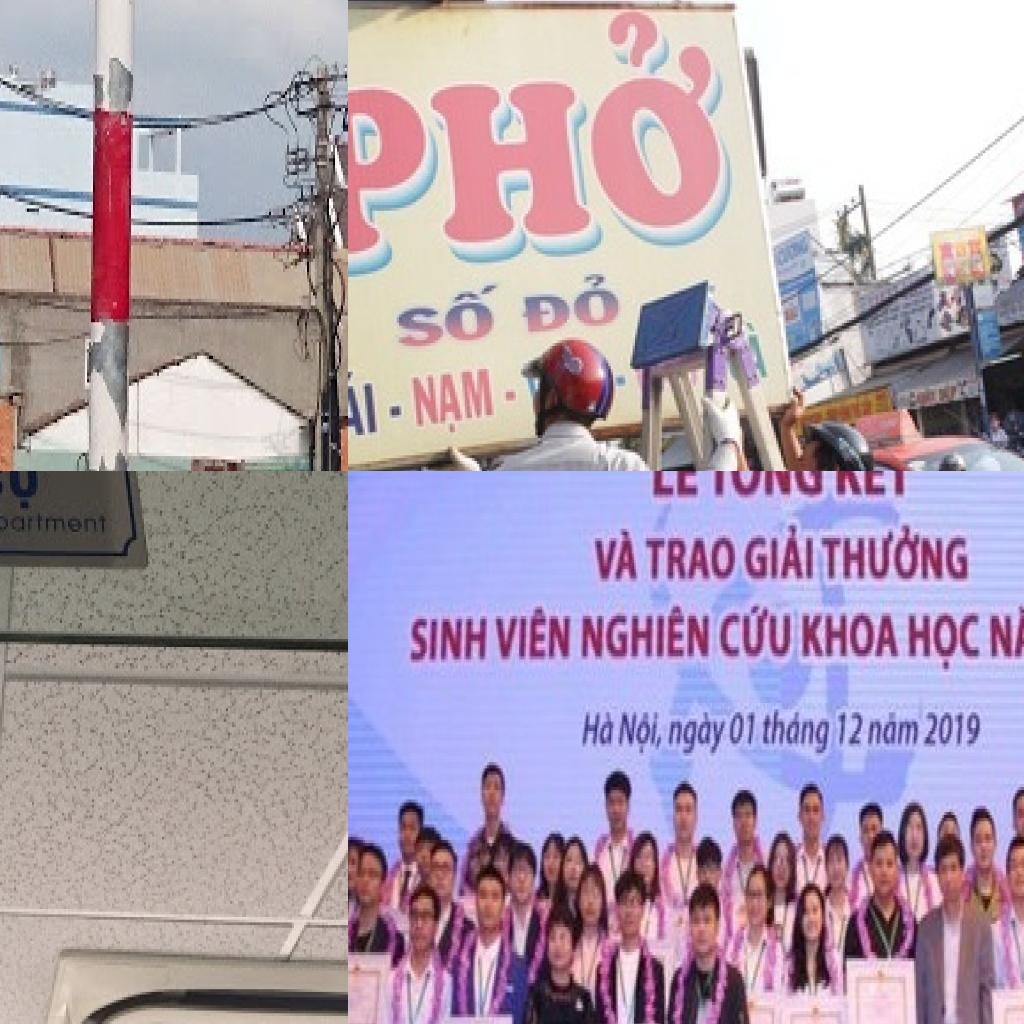text: (348, 0, 742, 291), (817, 519, 974, 591), (387, 277, 508, 360), (579, 597, 714, 669), (518, 260, 626, 343), (404, 358, 504, 446), (797, 606, 905, 668), (488, 600, 576, 672), (717, 591, 797, 666), (744, 513, 818, 591), (903, 610, 985, 678), (642, 528, 740, 584), (758, 706, 834, 768), (406, 612, 490, 668), (705, 471, 829, 507), (662, 706, 734, 765), (588, 523, 645, 594), (866, 706, 925, 759), (348, 363, 382, 449), (830, 471, 917, 504), (985, 600, 1024, 668), (613, 709, 666, 759), (644, 471, 703, 506), (579, 703, 620, 753), (0, 471, 48, 513), (832, 706, 868, 756), (724, 706, 760, 753), (384, 398, 409, 424), (501, 384, 523, 410)
